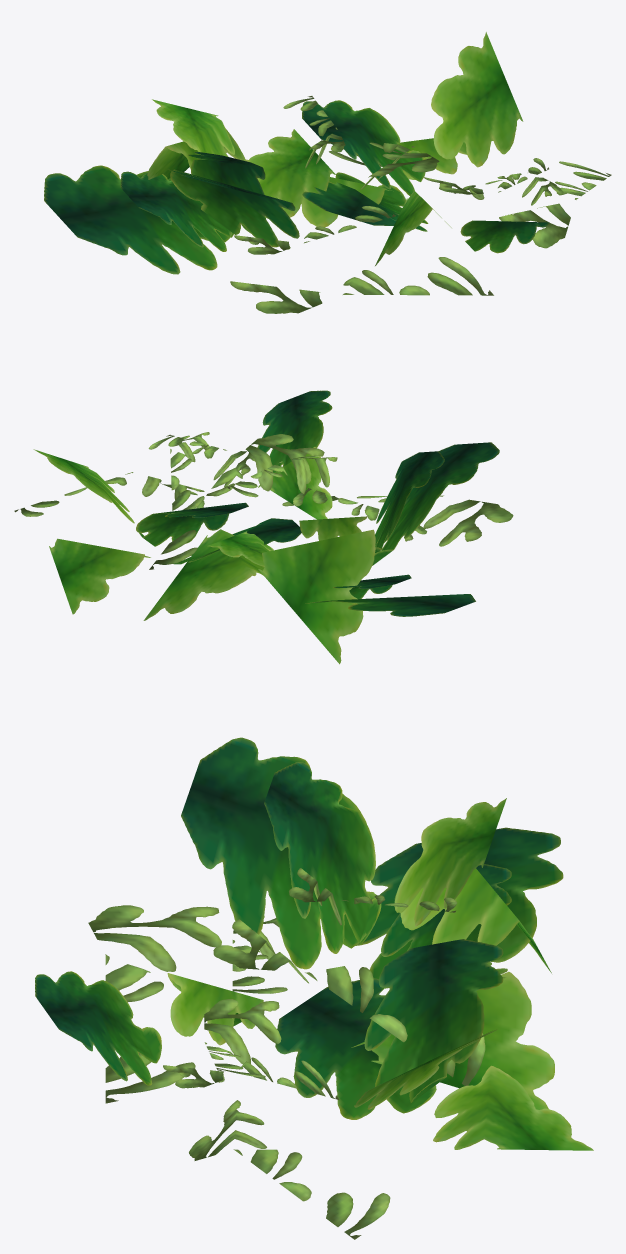
File: S_Tree_Red007.FBX
3 renders of one model, top to bottom at view 1: azimuth 30°, elevation 25°; view 2: azimuth 150°, elevation 25°; view 3: azimuth 270°, elevation 25°, orthographic. The views are drawn at different scales.
Parts seen in each view (by area): view 1: S_Tree_Yellow046; view 2: S_Tree_Yellow046; view 3: S_Tree_Yellow046.
Part boxes in pixels (bbox=[...]): S_Tree_Yellow046: bbox=[44, 32, 611, 313]; S_Tree_Yellow046: bbox=[14, 390, 513, 664]; S_Tree_Yellow046: bbox=[35, 737, 593, 1239].
Size of the model in its own units: 542 by 403 by 194.
